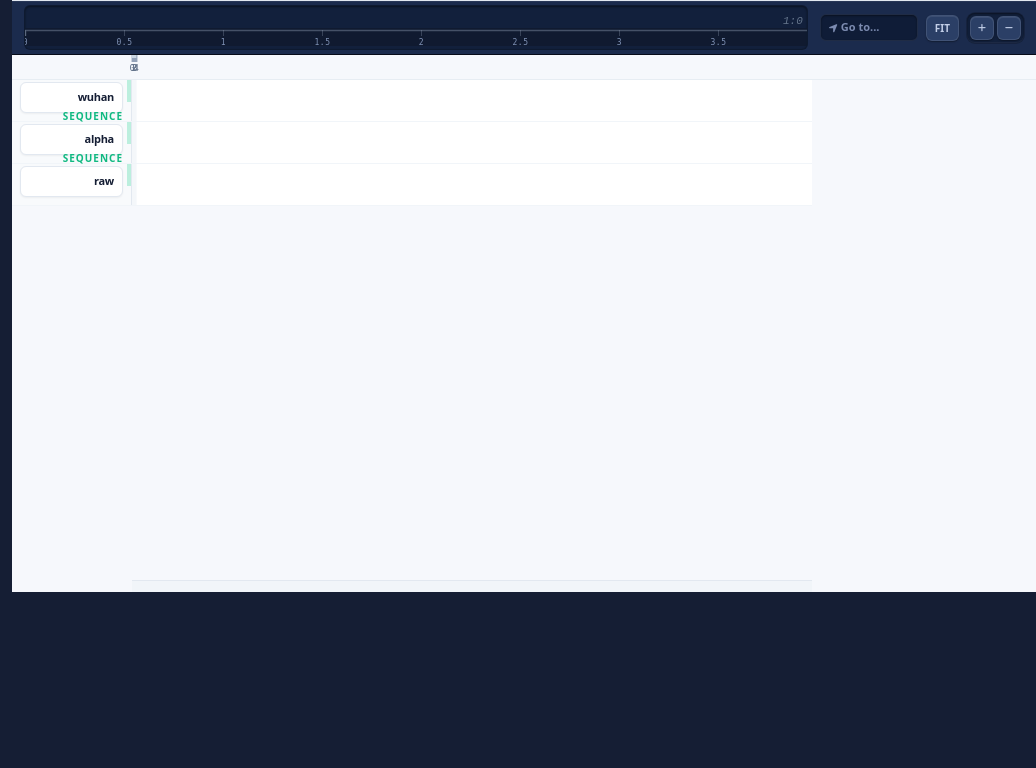
does not offer Use as Reference on an unaligned record
This screenshot has width=1036, height=768.
Right-click the element showing "Sequence raw" at (412, 185), box left=12, top=164, right=812, bottom=206
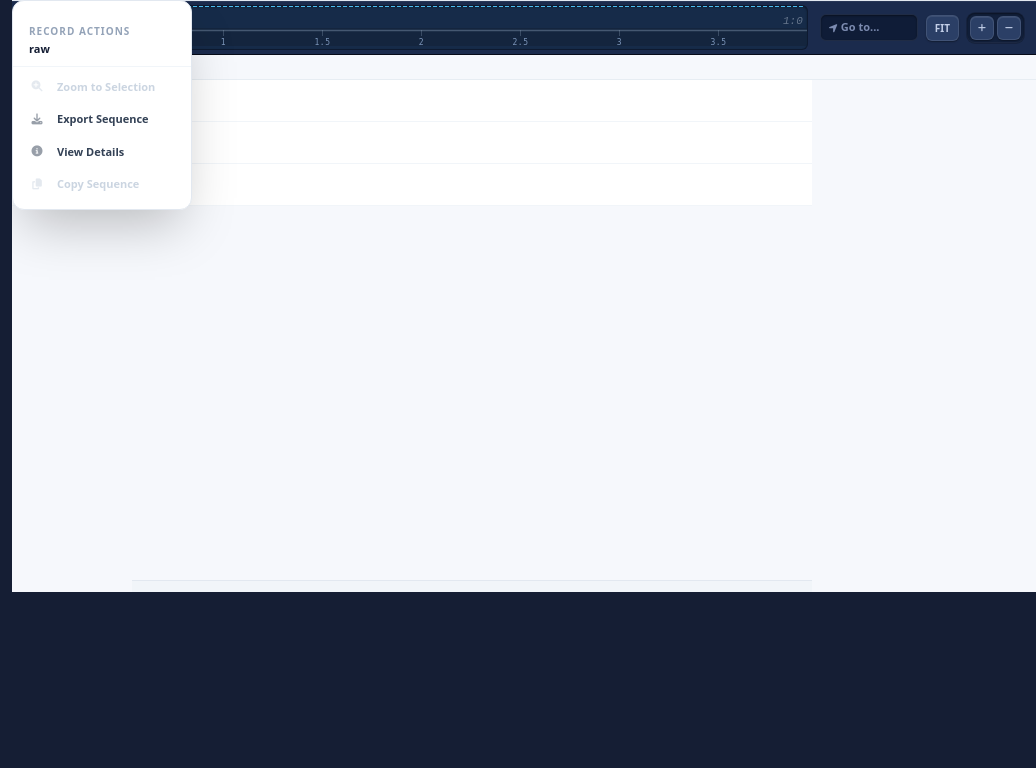
expect the button "View Details" is shown: met, box left=13, top=136, right=191, bottom=168
